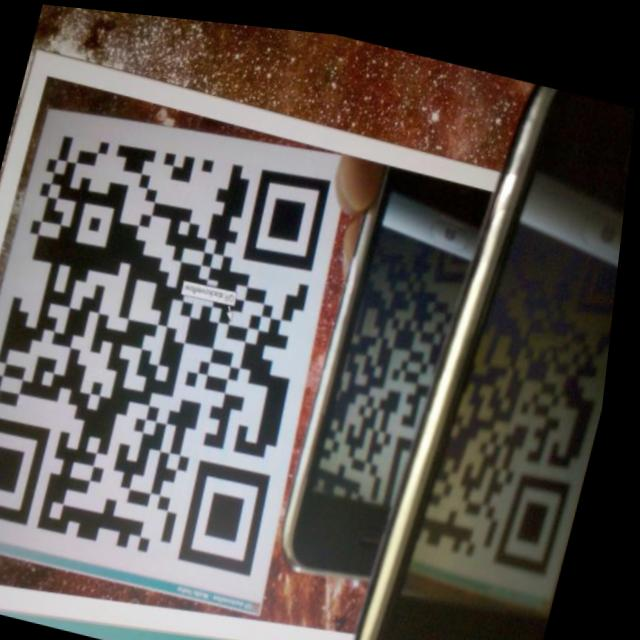qrcode: (1, 108, 356, 578), (427, 203, 627, 567), (323, 216, 479, 507)
